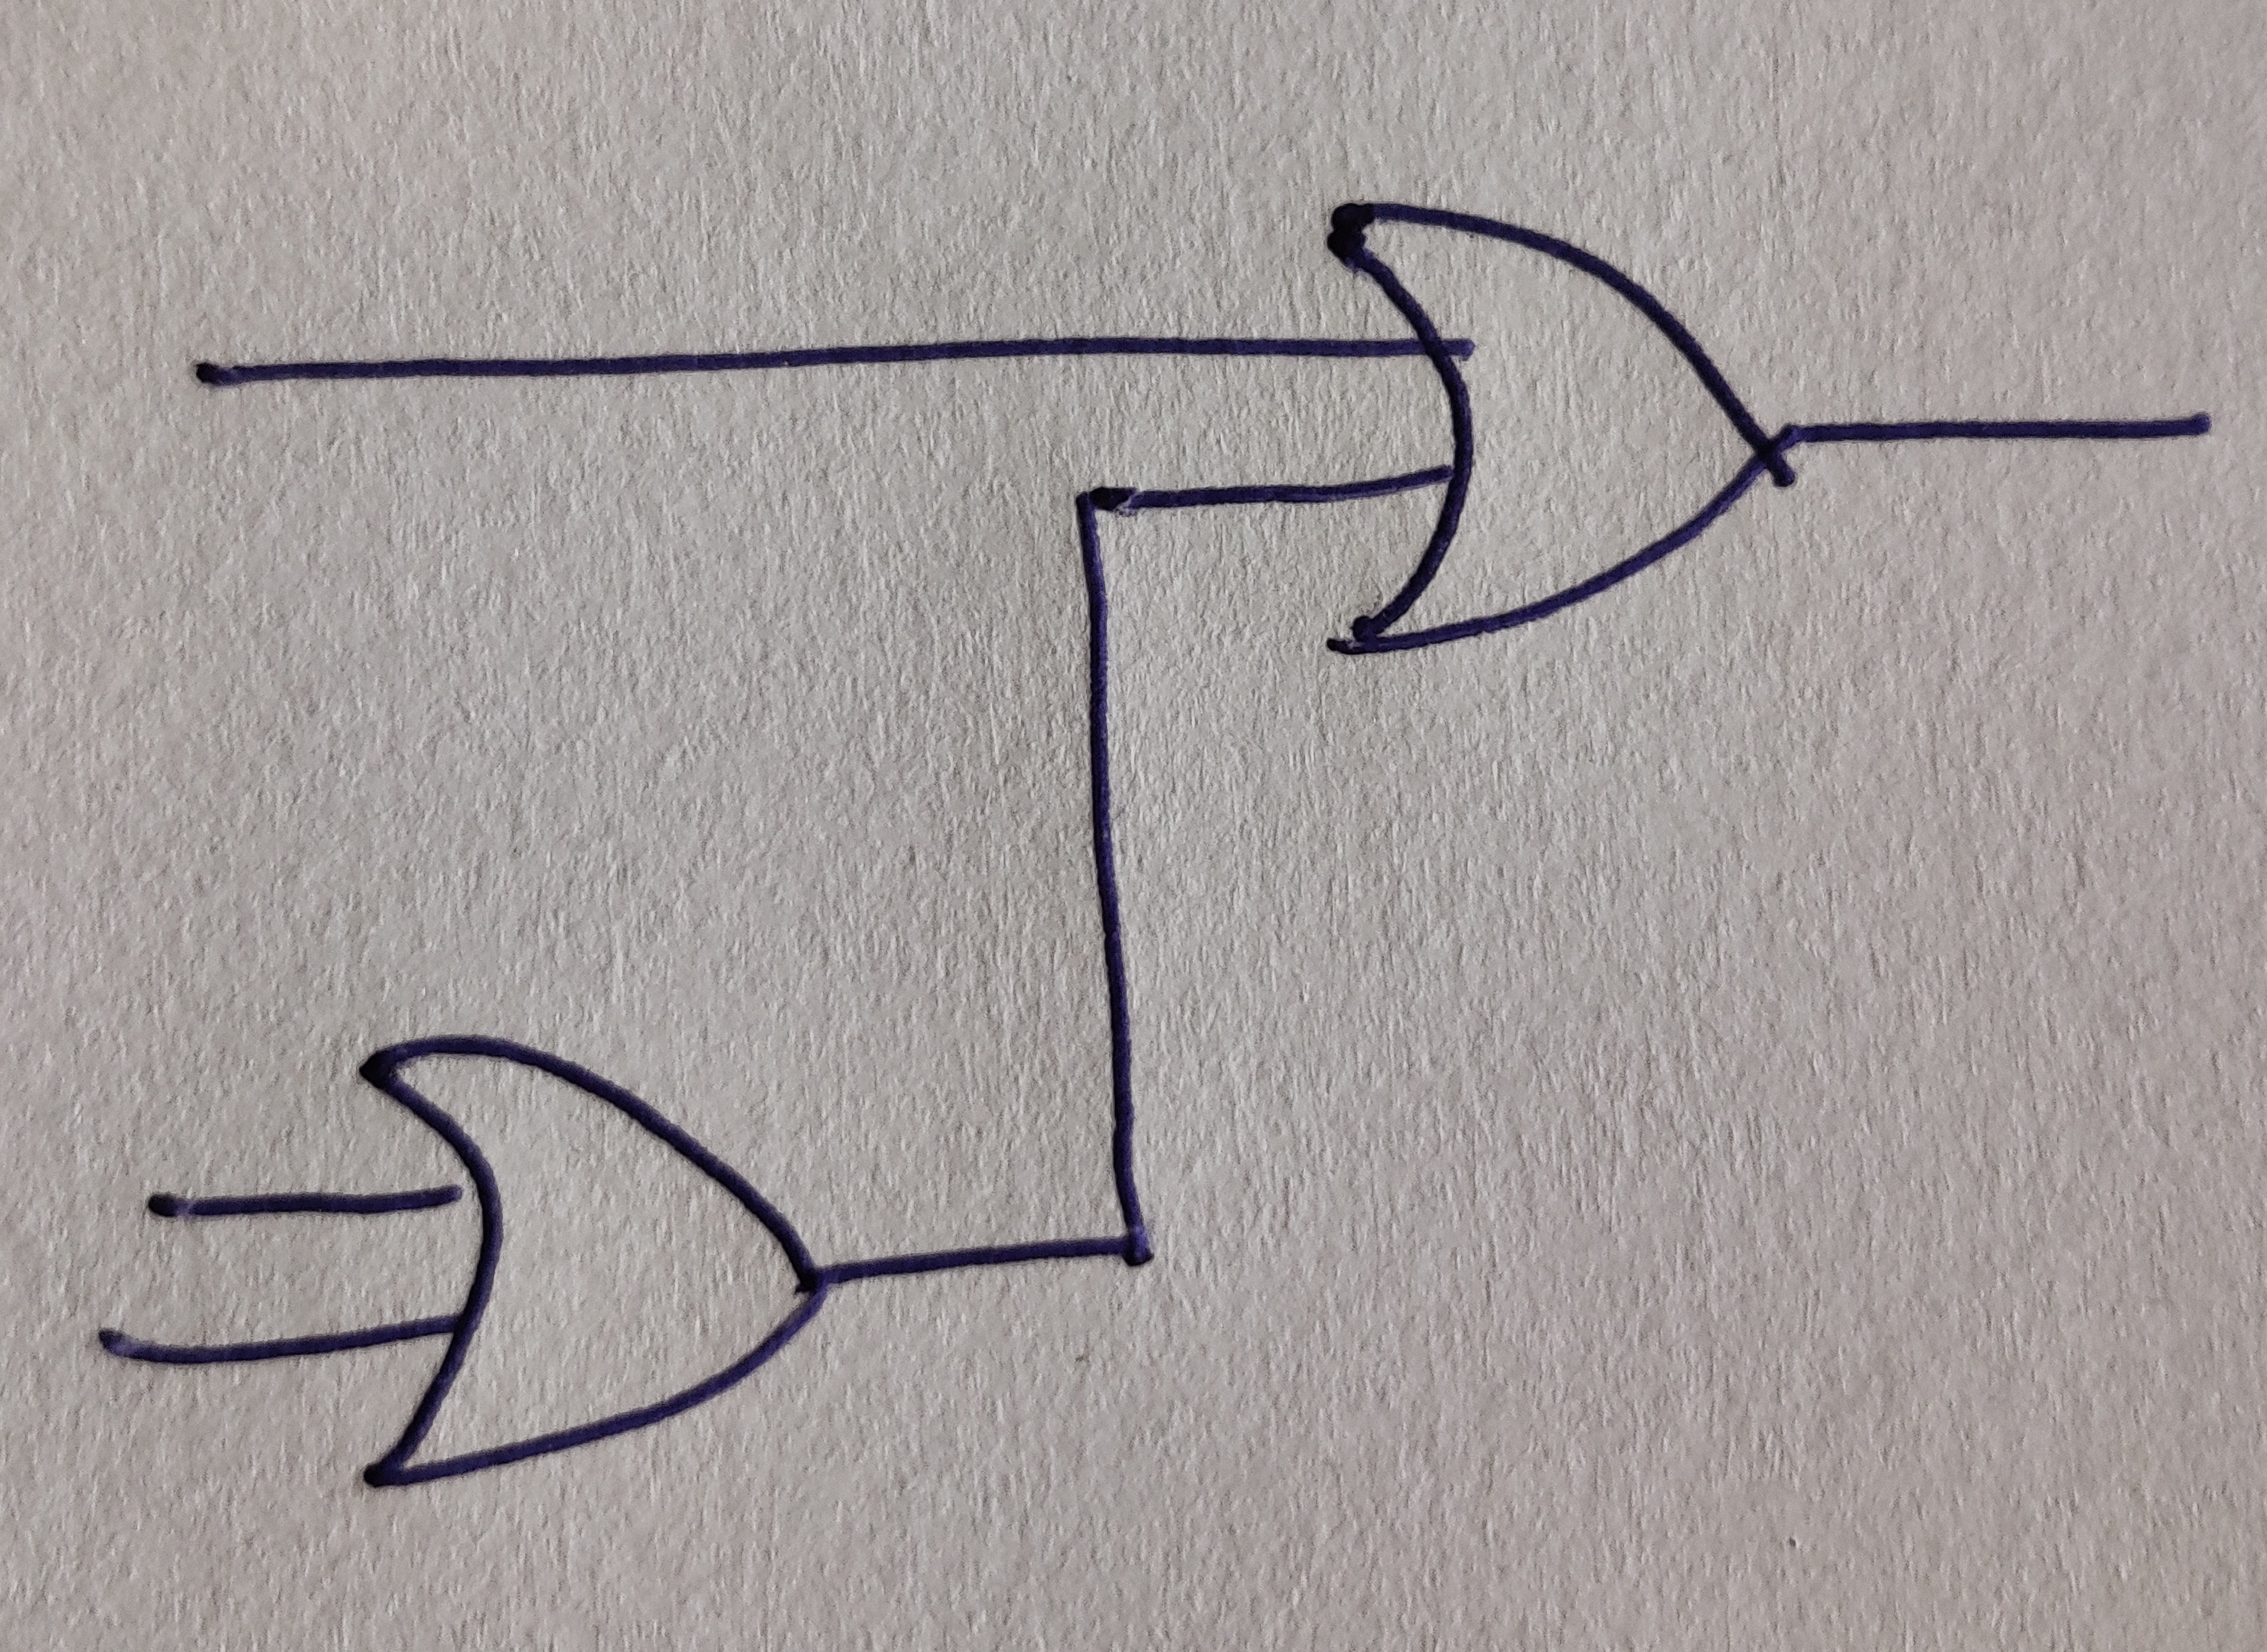or: (1327, 202, 1801, 656), (359, 1036, 825, 1488)
